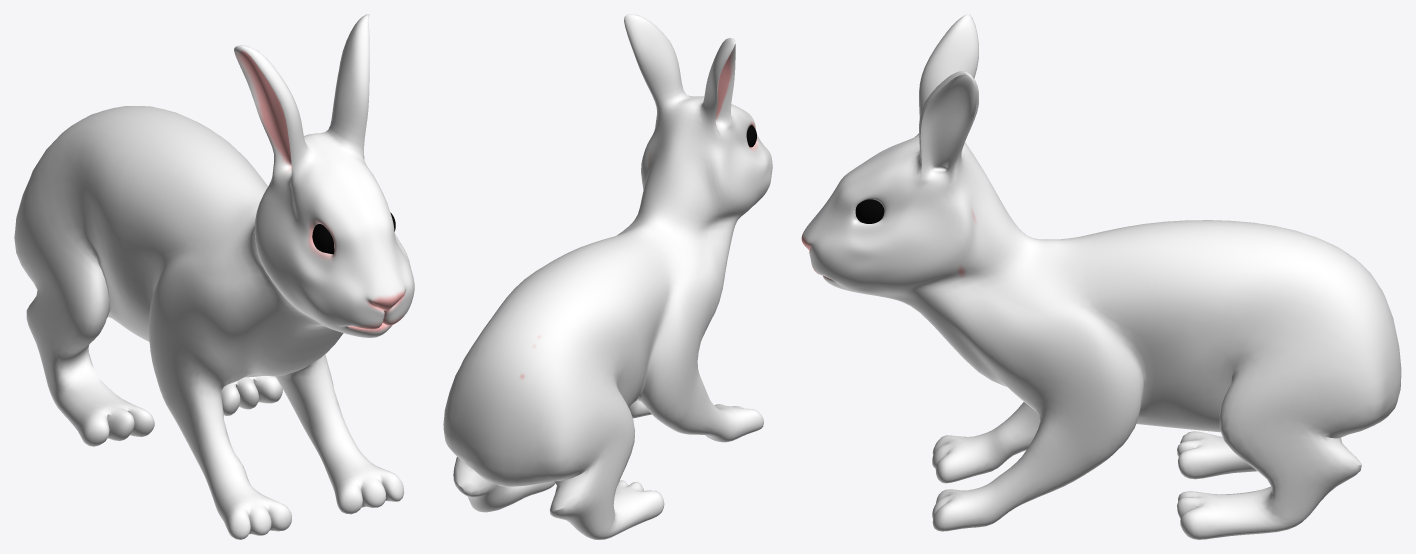
Rendered from rabbit.glb.
The picture shows the model from 3 angles, left to right: view 1: azimuth 30°, elevation 25°; view 2: azimuth 150°, elevation 25°; view 3: azimuth 270°, elevation 25°; orthographic projection. The views are drawn at different scales.
Parts seen in each view (by area): view 1: Rabbit, EyeL; view 2: Rabbit; view 3: Rabbit.
Part boxes in pixels (x1,y1,x2,y2): Rabbit: [14, 14, 414, 539]; EyeL: [312, 224, 334, 254]; Rabbit: [443, 14, 772, 539]; Rabbit: [801, 14, 1401, 539].
Bounding box in the file's own units: 0.1121 × 0.2641 × 0.3147.
Materials: 2 (1 with a texture image).
